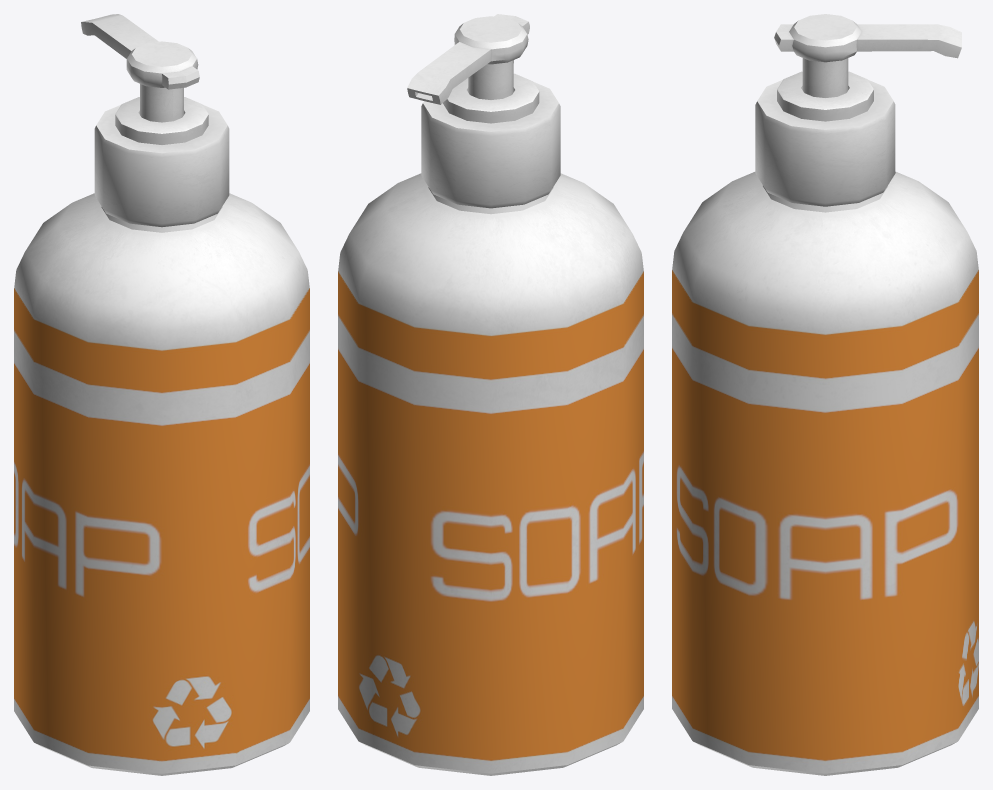
Rendered from pump.glb.
The picture shows the model from 3 angles, left to right: view 1: azimuth 30°, elevation 25°; view 2: azimuth 150°, elevation 25°; view 3: azimuth 270°, elevation 25°; orthographic projection. The views are drawn at different scales.
Visible parts, largest first — view 1: bottle, cap, top; view 2: bottle, cap, top; view 3: bottle, cap, top.
Boxes of the visible parts, bbox=[...] form: bottle: bbox=[14, 193, 309, 775]; cap: bbox=[94, 97, 229, 227]; top: bbox=[81, 14, 199, 122]; bottle: bbox=[338, 173, 643, 775]; cap: bbox=[421, 73, 560, 208]; top: bbox=[407, 14, 529, 104]; bottle: bbox=[672, 171, 978, 775]; cap: bbox=[755, 71, 895, 206]; top: bbox=[774, 14, 961, 97].
Bounding box in the file's own units: 0.8089 × 2 × 0.8089.
Materials: 1 (1 with a texture image).
